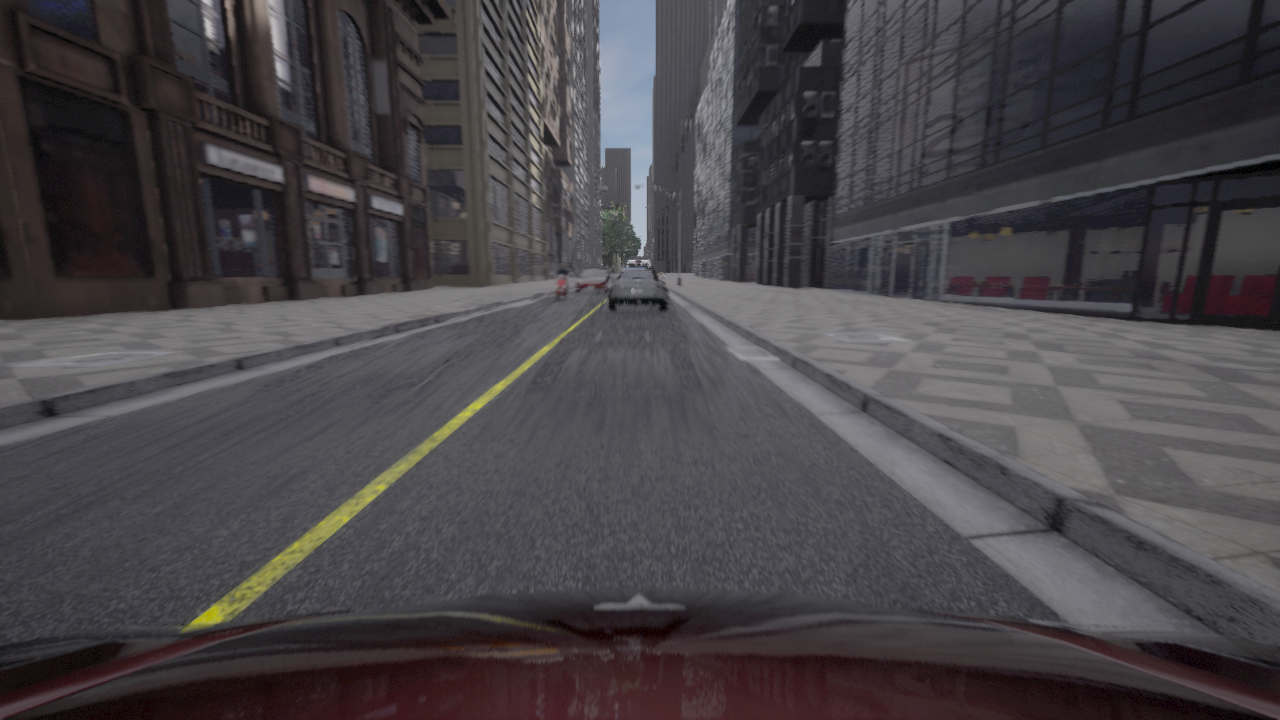cyclist: (0, 588, 1279, 719), (608, 268, 667, 310), (575, 268, 611, 292), (552, 272, 571, 301), (624, 258, 654, 269), (606, 268, 614, 280)
